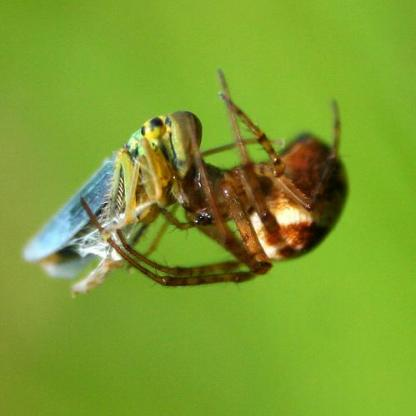Green-Leafhopper: (27, 107, 209, 295)
